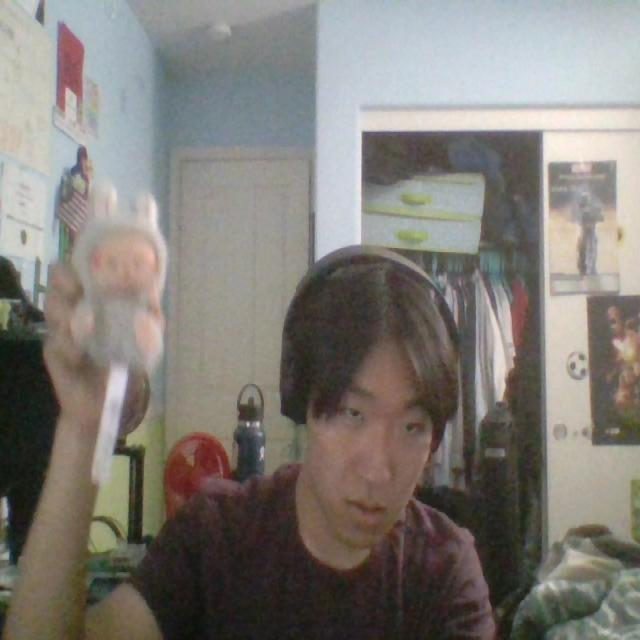labubu: (72, 187, 166, 376)
